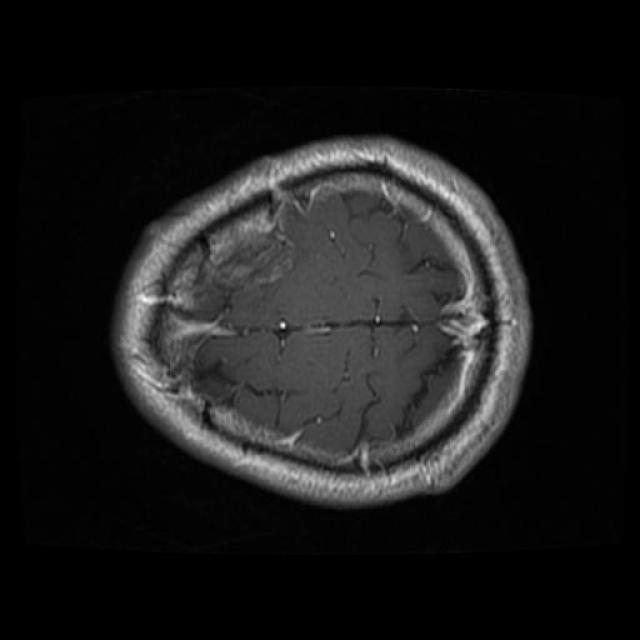Glioma: (206, 191, 293, 288)
